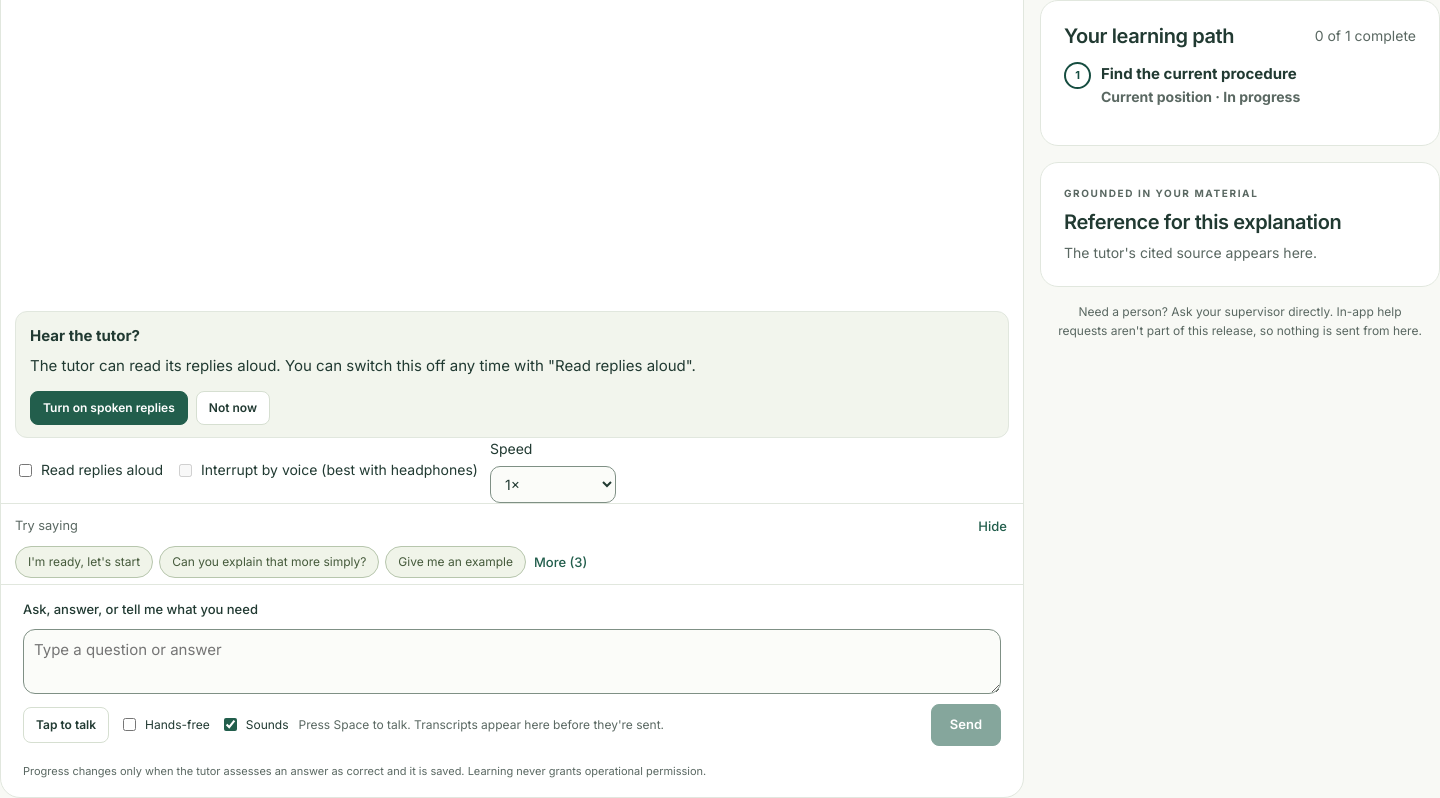
demo caps on the tutor page › a refused message swaps in the limit panel instead of a generic error
The image size is (1440, 798).
(page scrolled)
Step 1. Type "One more?" into the text box labelled "Ask, answer, or tell me what you need" → (512, 662), box [23, 630, 1001, 694]
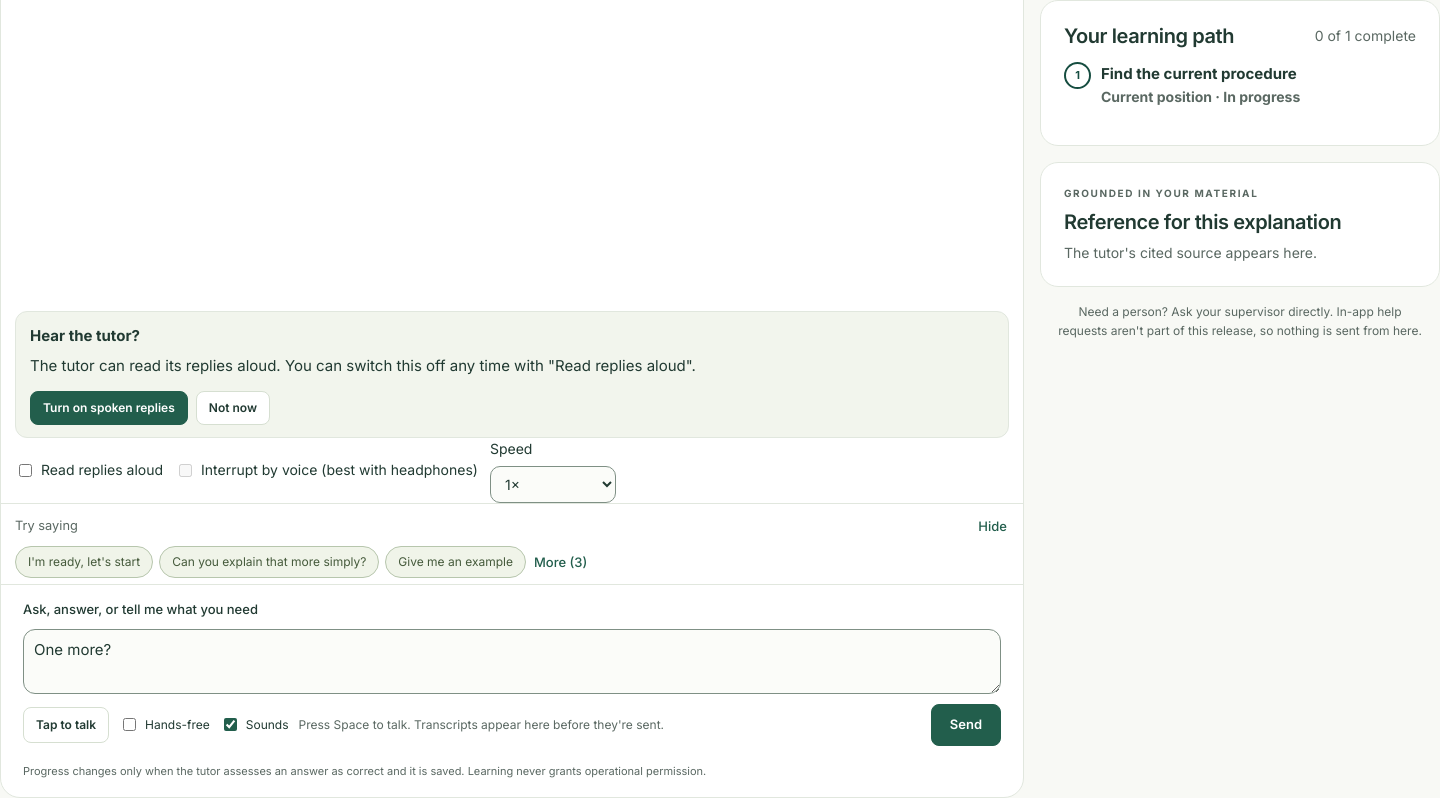
Step 2. Click the button "Send" → (966, 725), box [931, 704, 1001, 746]
(page scrolled)
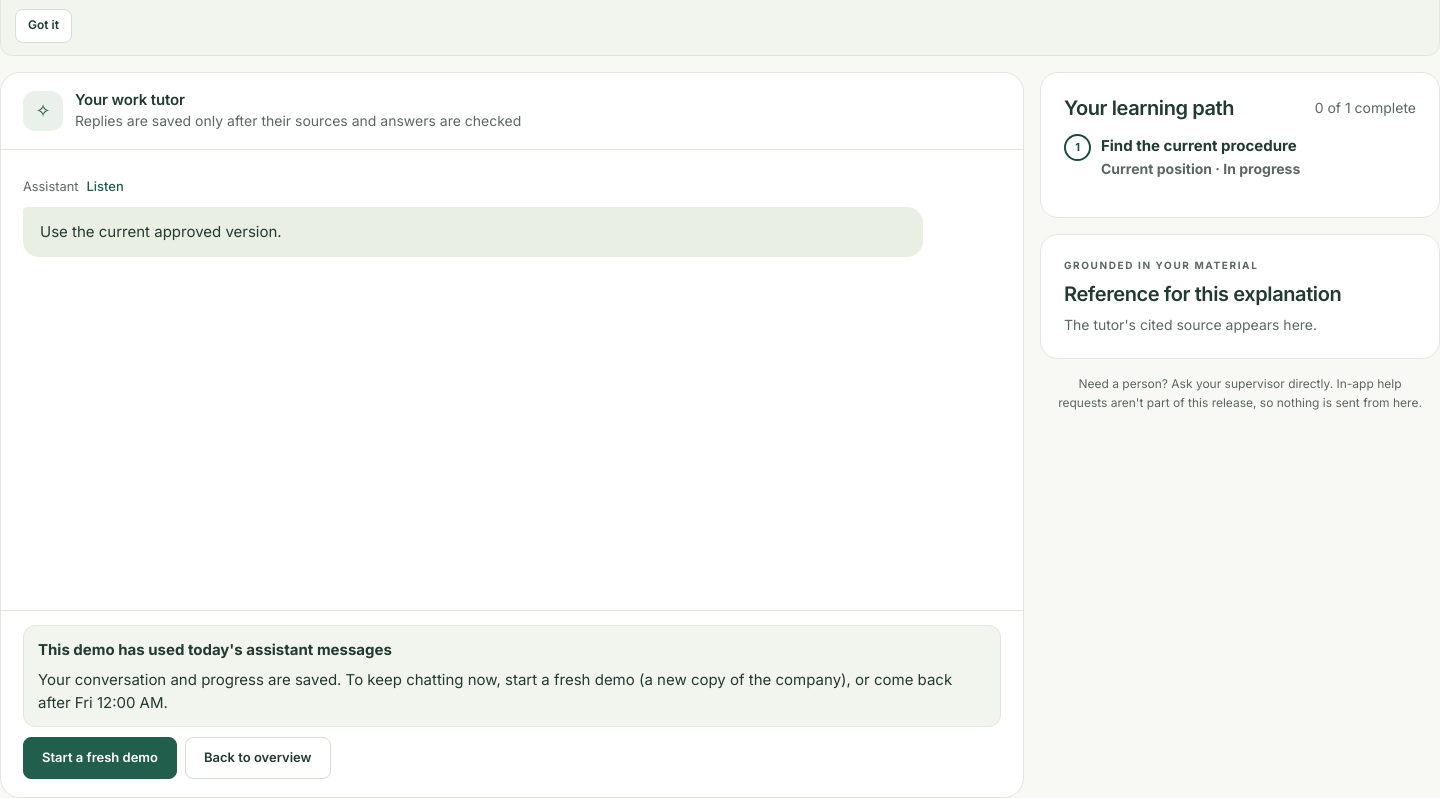
Expected: the element with test id "tutor-limit" is shown, [1, 610, 1023, 797]
